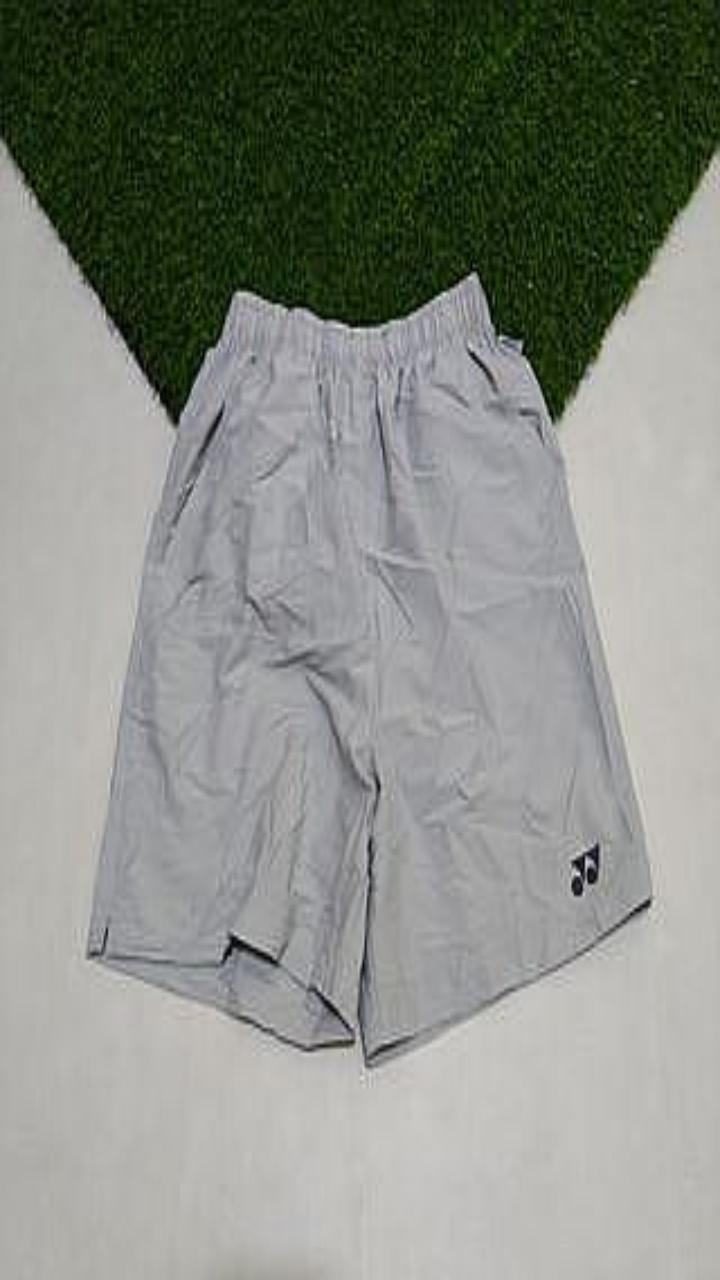Shorts: (87, 271, 651, 1065)
